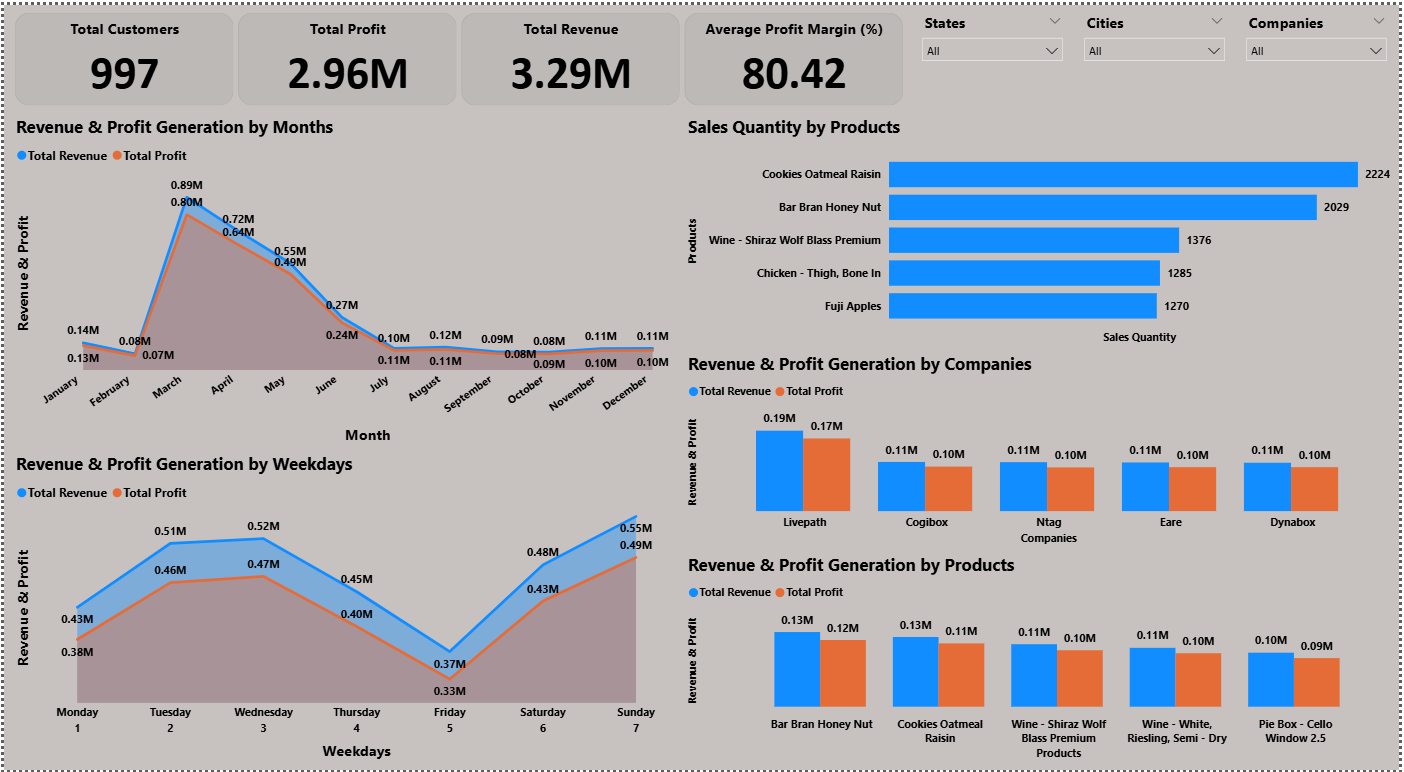

The page's visual inventory and layout, read from the dashboard file:
{"tool":"powerbi","page":{"name":"Product, Time & Company Insights","canvas":[1550,850],"ordinal":1},"visuals":[{"type":"clusteredColumnChart","title":"Revenue & Profit by Companies","fields":{"Category":["customers products purchases.company"],"Y":["Sum(customers products purchases.revenue)","Sum(customers products purchases.profit)"]},"box":[755,385,790,220],"z":0},{"type":"clusteredColumnChart","title":"Revenue & Profit by Products","fields":{"Category":["customers products purchases.product"],"Y":["Sum(customers_products_purchases.revenue)","Sum(customers_products_purchases.profit)"]},"box":[755,608.3,790,235],"z":1000},{"type":"areaChart","title":"Revenue & Profit by Months","fields":{"Category":["customers products purchases.purch_date.Variation.Date Hierarchy.Month"],"Y":["Sum(customers products purchases.revenue)","Sum(customers products purchases.profit)"]},"box":[8.3,121.7,740,370],"z":2000},{"type":"areaChart","title":"Revenue & Profit by Weekdays","fields":{"Category":["customers products purchases.weekday_number","customers products purchases.day"],"Y":["Sum(customers products purchases.revenue)","Sum(customers products purchases.profit)"]},"box":[8.3,496.7,740,346.7],"z":3000},{"type":"clusteredBarChart","title":"Sales Quantity by Products","fields":{"Category":["customers products purchases.product"],"Y":["Sum(customers products purchases.product_qty)"]},"box":[755,121.7,790,260],"z":4000},{"type":"slicer","fields":{"Values":["customers products purchases.state"]},"box":[1010,3.3,176.7,111.7],"z":5000},{"type":"slicer","fields":{"Values":["customers products purchases.city"]},"box":[1190,3.3,176.7,111.7],"z":6000},{"type":"slicer","fields":{"Values":["customers products purchases.company"]},"box":[1370,3.3,176.7,111.7],"z":7000},{"type":"cardVisual","fields":{"Data":["customers_products_purchases.Customers","customers products purchases.Total Profit","customers products purchases.Total Revenue","customers_products_purchases.Average Profit Margin"]},"box":[6.7,3.3,1000,113.3],"z":7001}]}

Visuals, with their boxes in screenshot pixels (x1, y1, x2, y2), scaled from the page's 1550x850 canvas onto the 1404x772 screenshot:
"Revenue & Profit by Companies" clusteredColumnChart: {"left": 684, "top": 350, "right": 1399, "bottom": 549}
"Revenue & Profit by Products" clusteredColumnChart: {"left": 684, "top": 552, "right": 1399, "bottom": 766}
"Revenue & Profit by Months" areaChart: {"left": 8, "top": 111, "right": 678, "bottom": 447}
"Revenue & Profit by Weekdays" areaChart: {"left": 8, "top": 451, "right": 678, "bottom": 766}
"Sales Quantity by Products" clusteredBarChart: {"left": 684, "top": 111, "right": 1399, "bottom": 347}
slicer - customers products purchases.state: {"left": 915, "top": 3, "right": 1075, "bottom": 104}
slicer - customers products purchases.city: {"left": 1078, "top": 3, "right": 1238, "bottom": 104}
slicer - customers products purchases.company: {"left": 1241, "top": 3, "right": 1401, "bottom": 104}
cardVisual - customers_products_purchases.Customers x customers products purchases.Total Profit: {"left": 6, "top": 3, "right": 912, "bottom": 106}
